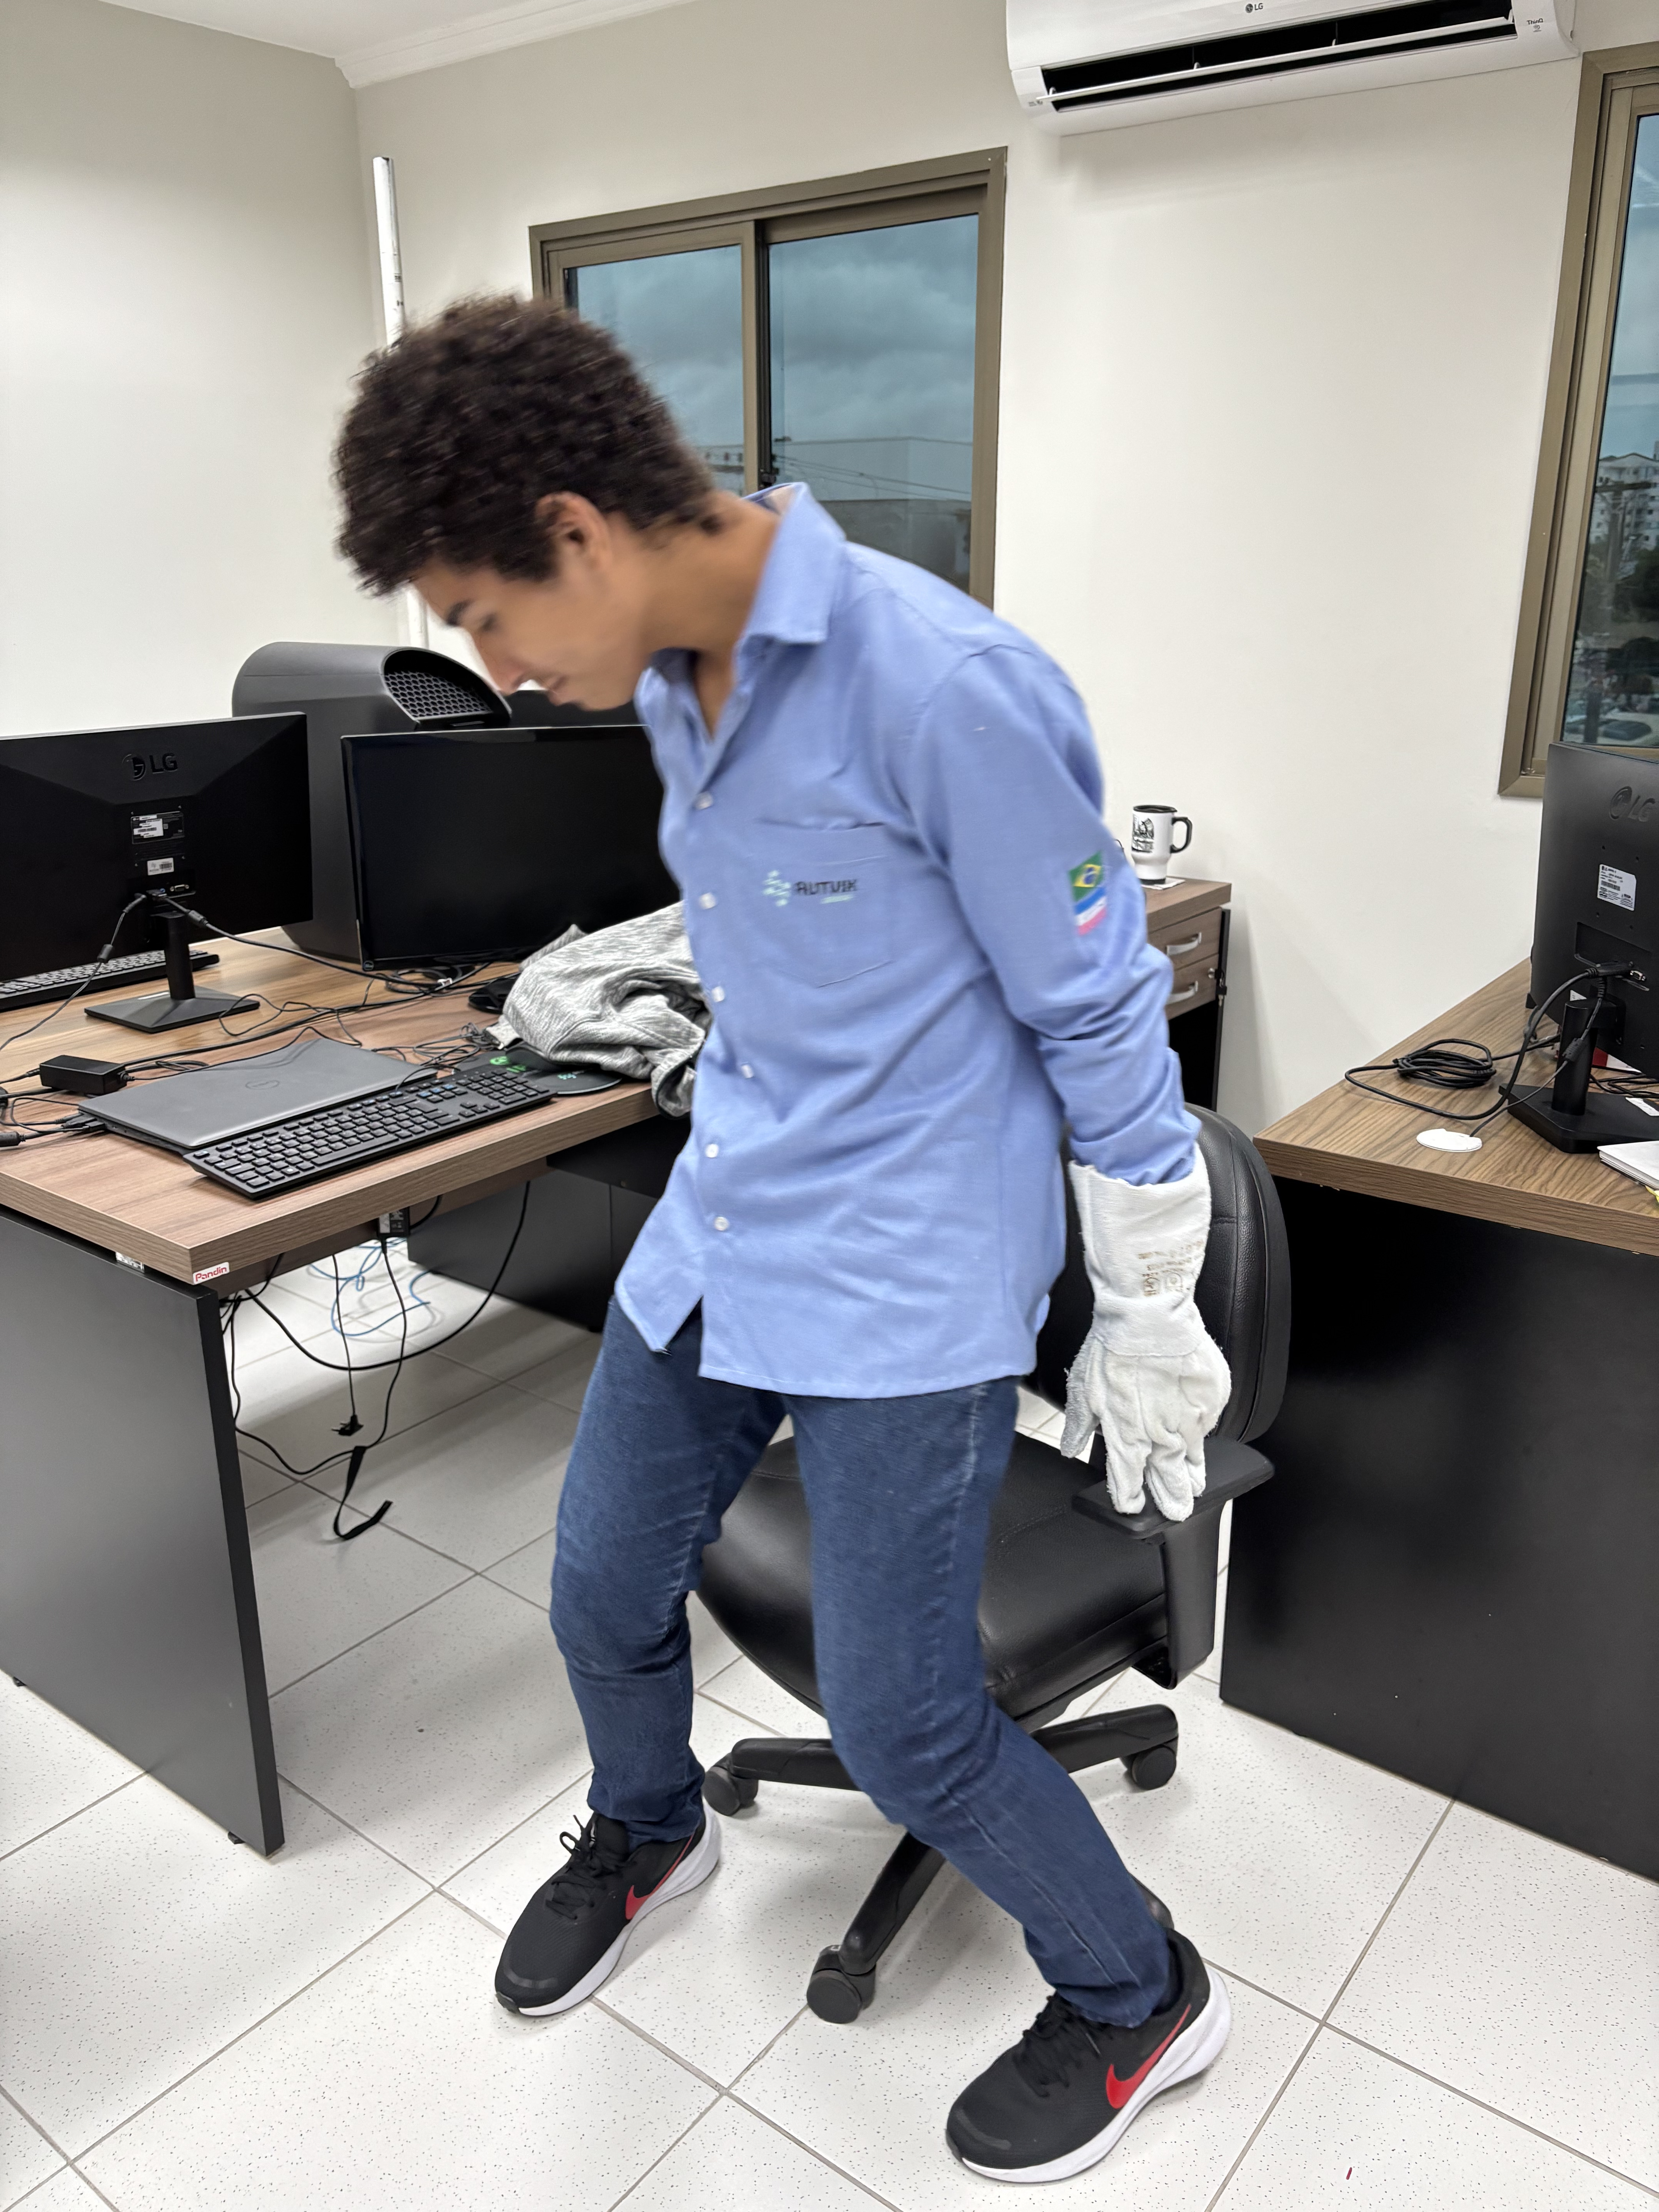Gloves: (1058, 1137, 1230, 1527)
